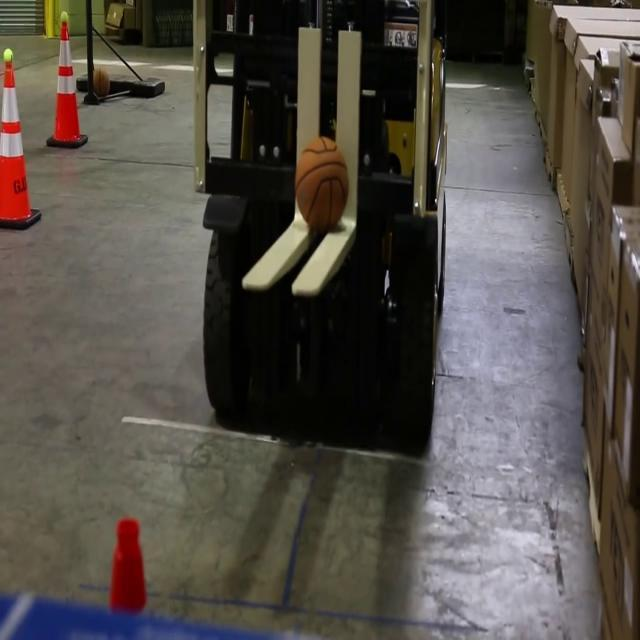forklift: (183, 0, 462, 461)
